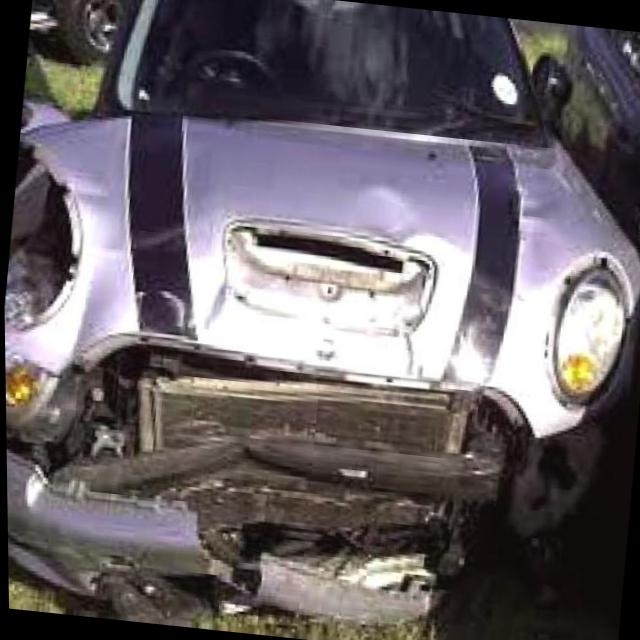Car-Damage: (1, 121, 606, 640)
